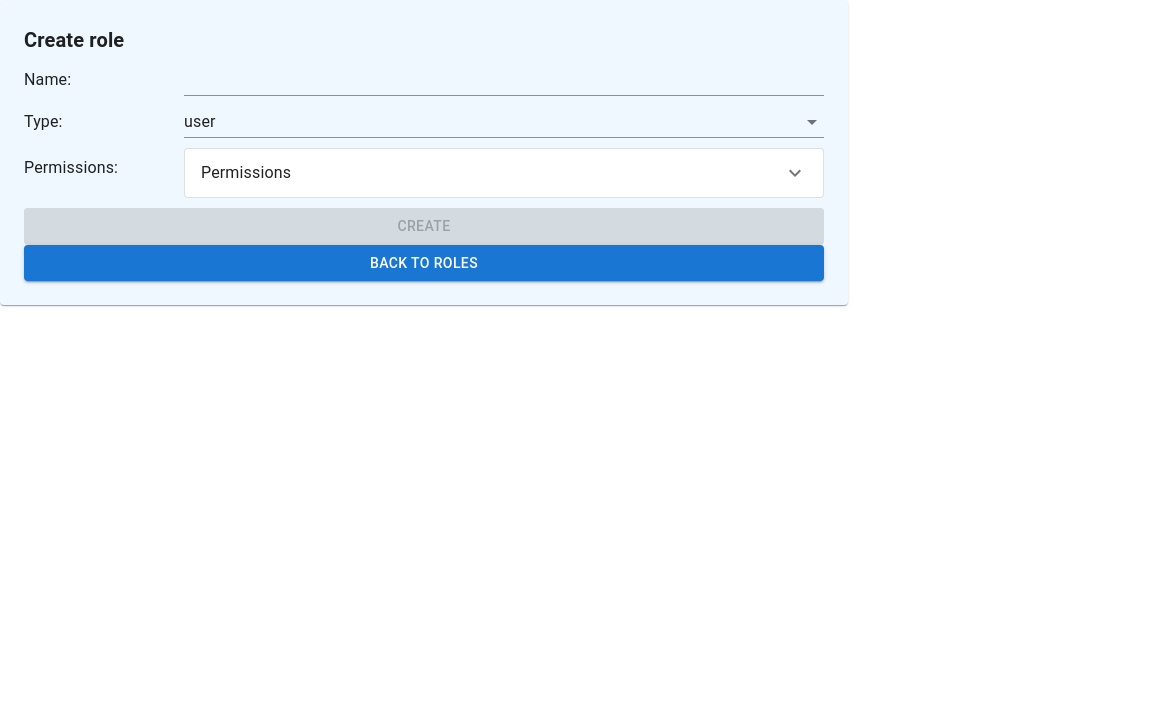
Test: Role edit form › should be have expand button
This screenshot has width=1152, height=720.
Step 1. Click the icon with test id "ExpandMoreIcon" → [795, 173], box [783,161,807,185]
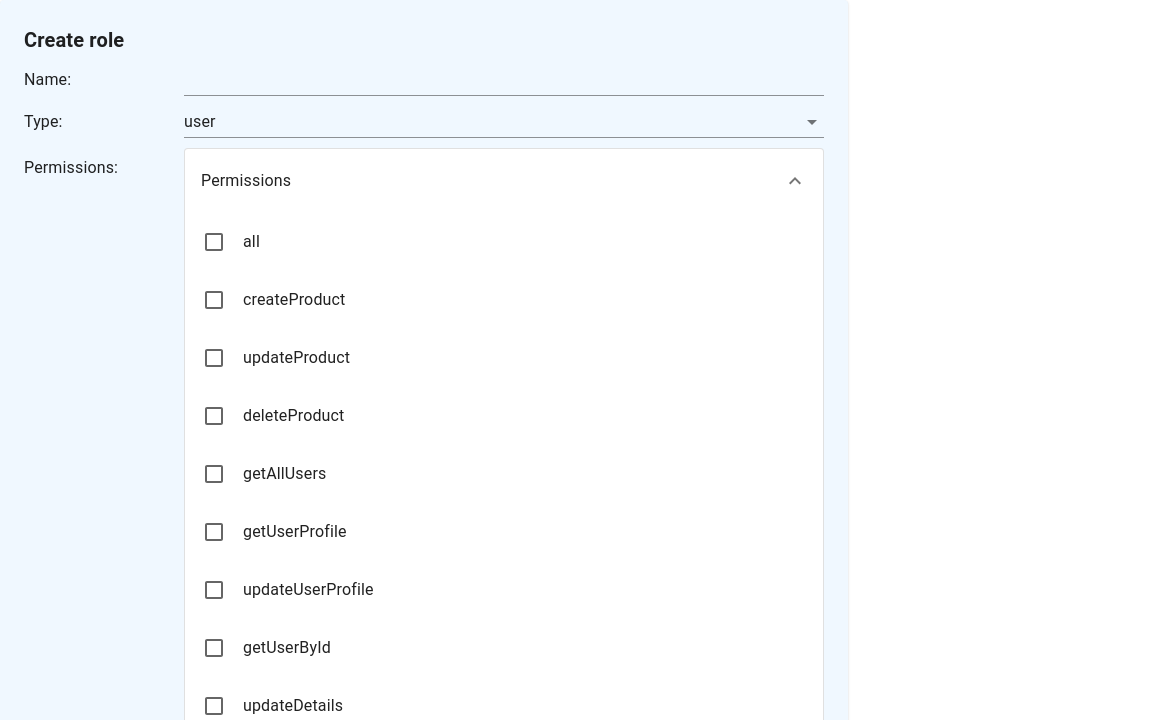
Result: the checkbox showing "createproduct" is shown at [202,288,226,312]
